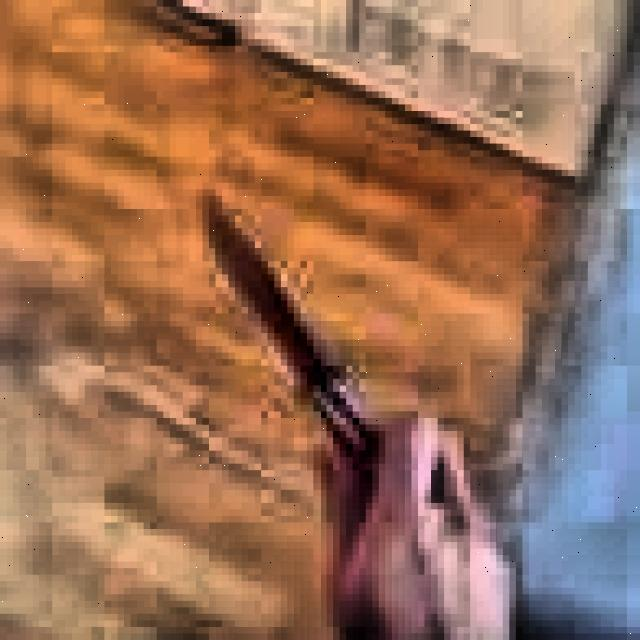knife: (205, 199, 392, 488)
